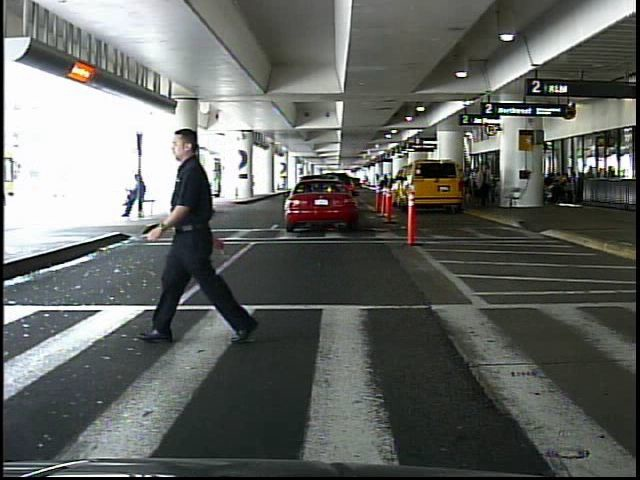person: (141, 123, 270, 349), (478, 163, 495, 208)
